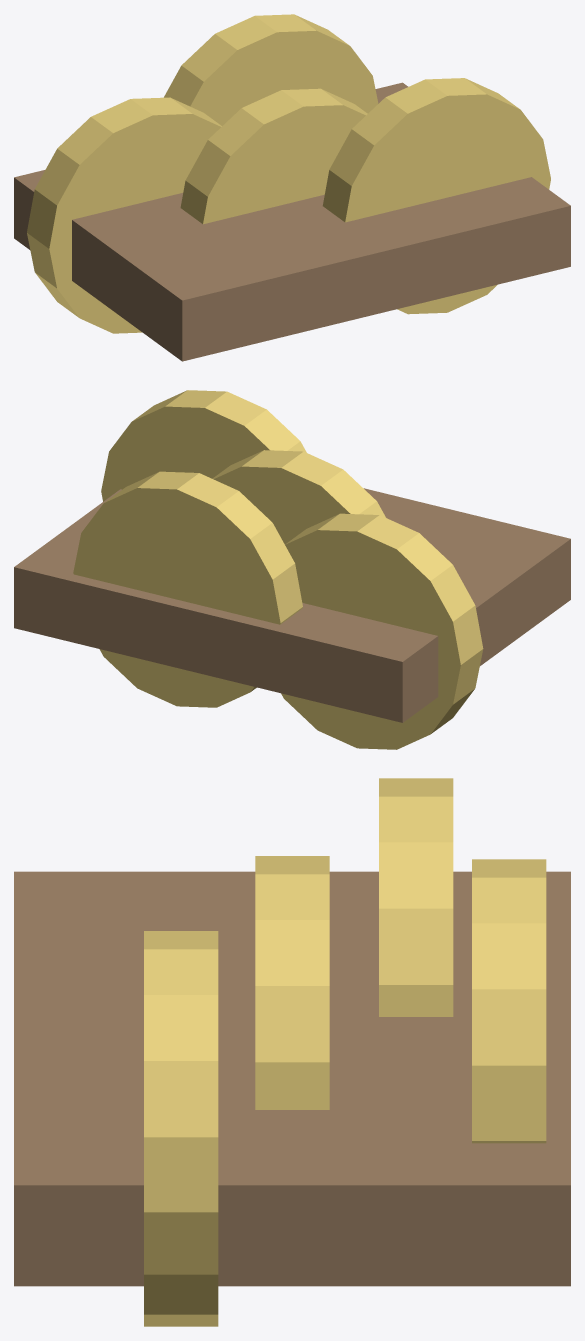
The model's file is loot_coin_cache_m201.glb.
3 renders of one model, top to bottom at view 1: azimuth 30°, elevation 25°; view 2: azimuth 150°, elevation 25°; view 3: azimuth 270°, elevation 25°, orthographic. The views are drawn at different scales.
Parts seen in each view (by area): view 1: SalvageBoard, Coin2, Coin0, Coin1, Coin3; view 2: SalvageBoard, Coin3, Coin0, Coin2, Coin1; view 3: SalvageBoard, Coin2, Coin3, Coin1, Coin0.
Part boxes in pixels (x1,y1,x2,y2): SalvageBoard: (14, 82, 570, 361); Coin2: (322, 78, 550, 314); Coin0: (27, 97, 221, 333); Coin1: (180, 88, 367, 224); Coin3: (164, 14, 378, 125); SalvageBoard: (14, 488, 570, 722); Coin3: (73, 471, 302, 707); Coin0: (281, 513, 483, 749); Coin2: (101, 390, 306, 501); Coin1: (212, 450, 385, 544); SalvageBoard: (14, 871, 570, 1286); Coin2: (144, 931, 218, 1326); Coin3: (472, 859, 546, 1143); Coin1: (255, 856, 329, 1109); Coin0: (379, 778, 453, 1016).
Size of the model in its own units: 1.33 by 0.715 by 0.9.
